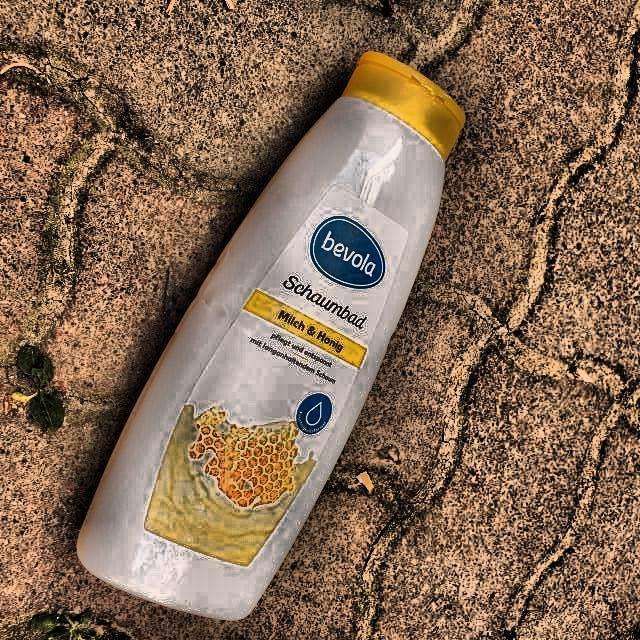plastic: (79, 52, 464, 619)
